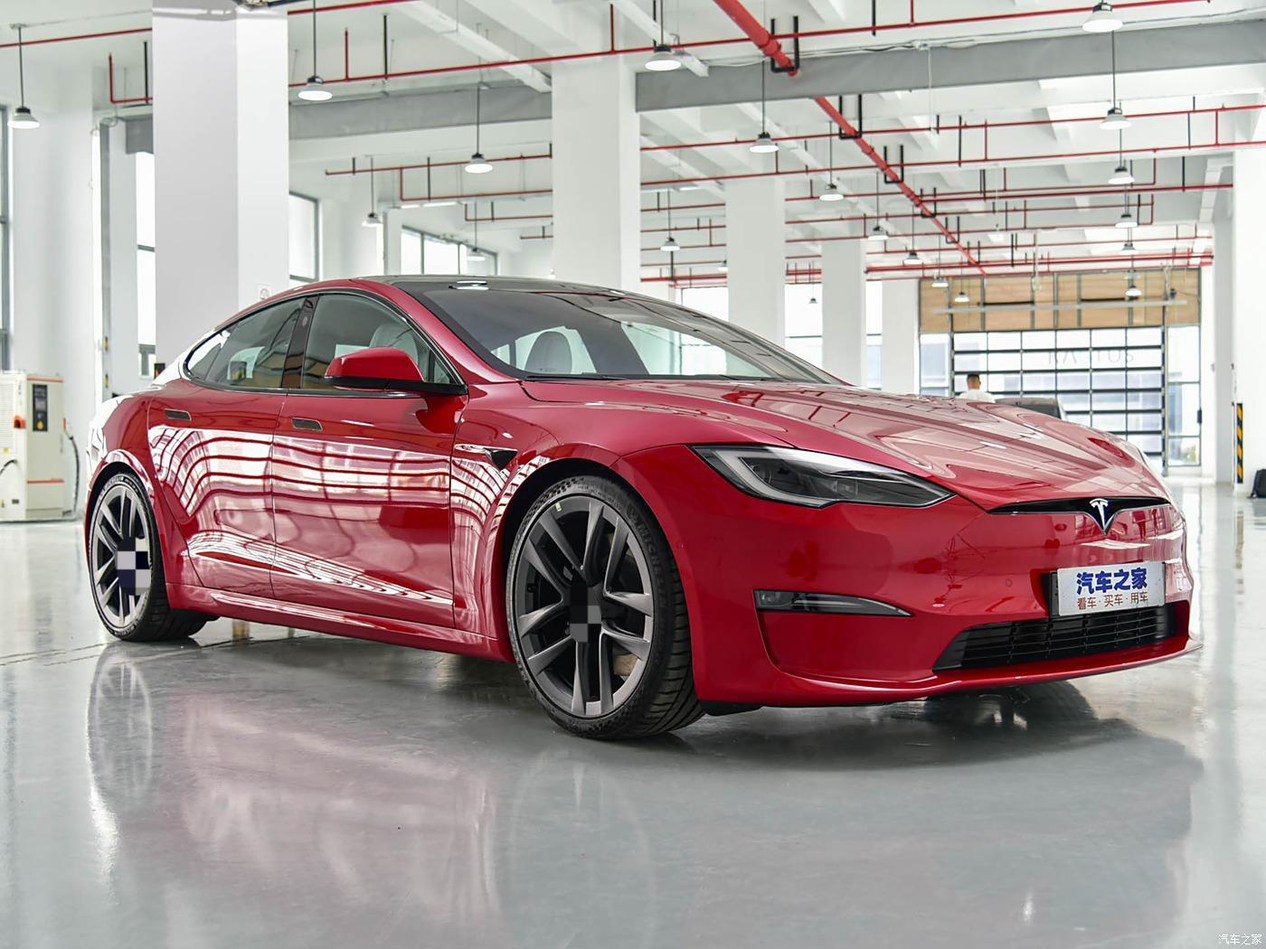Tesla: (1090, 498, 1109, 532)
